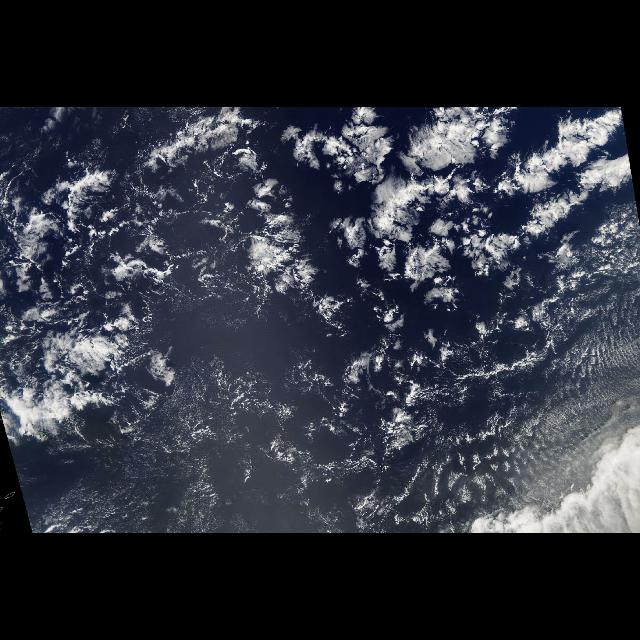Flower: (238, 107, 636, 349)
Gravel: (18, 132, 362, 434)
Sugar: (115, 352, 593, 532)
